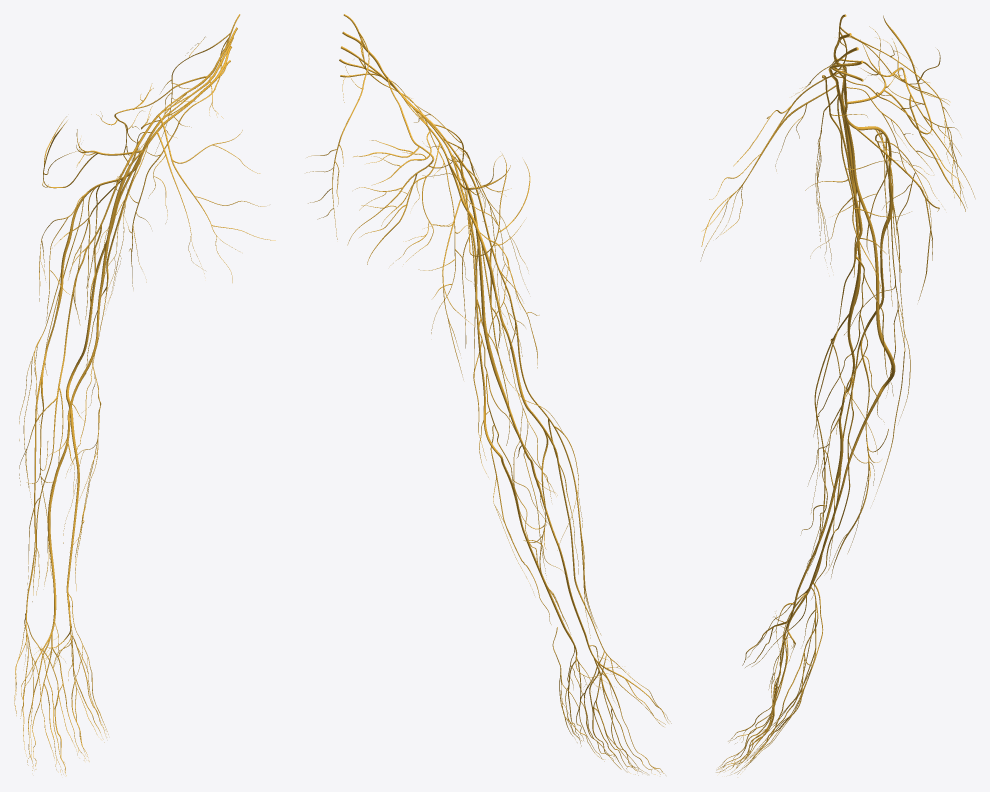
The model's file is aligned-upper-limb-nervous-01.glb.
The picture shows the model from 3 angles, left to right: view 1: azimuth 30°, elevation 25°; view 2: azimuth 150°, elevation 25°; view 3: azimuth 270°, elevation 25°; orthographic projection. The views are drawn at different scales.
Visible parts, largest first — view 1: O3D_b97c117a996a49, O3D_e2ebca41d4a0dc, O3D_99e1d7b0abd6da, O3D_437ff4c5e315e0, O3D_f5a411dd37ec77, O3D_14b555357a79c0, O3D_89074e70b0682d, O3D_255a8c9115e9ac, O3D_cf9a4c0952d096, O3D_6880cd886697c8, O3D_805b0ae0590620, O3D_36c34a134d0ae1 (+1 smaller); view 2: O3D_99e1d7b0abd6da, O3D_b97c117a996a49, O3D_437ff4c5e315e0, O3D_e2ebca41d4a0dc, O3D_458261f3b9063d, O3D_f5a411dd37ec77, O3D_14b555357a79c0, O3D_89074e70b0682d, O3D_6880cd886697c8, O3D_805b0ae0590620; view 3: O3D_99e1d7b0abd6da, O3D_e2ebca41d4a0dc, O3D_b97c117a996a49, O3D_437ff4c5e315e0, O3D_f5a411dd37ec77, O3D_458261f3b9063d, O3D_14b555357a79c0, O3D_805b0ae0590620, O3D_6880cd886697c8, O3D_db9c4d32abe504, O3D_255a8c9115e9ac, O3D_cf9a4c0952d096 (+3 smaller).
Boxes of the visible parts, <box> form: O3D_b97c117a996a49: <box>48,163,132,639</box>; O3D_e2ebca41d4a0dc: <box>66,150,143,634</box>; O3D_99e1d7b0abd6da: <box>63,148,145,590</box>; O3D_437ff4c5e315e0: <box>44,158,141,375</box>; O3D_f5a411dd37ec77: <box>14,612,76,758</box>; O3D_14b555357a79c0: <box>19,383,63,601</box>; O3D_89074e70b0682d: <box>59,144,139,382</box>; O3D_255a8c9115e9ac: <box>158,115,275,282</box>; O3D_cf9a4c0952d096: <box>27,682,85,775</box>; O3D_6880cd886697c8: <box>42,116,141,188</box>; O3D_805b0ae0590620: <box>123,38,228,289</box>; O3D_36c34a134d0ae1: <box>92,144,148,303</box>; O3D_99e1d7b0abd6da: <box>453,157,564,624</box>; O3D_b97c117a996a49: <box>462,177,600,664</box>; O3D_437ff4c5e315e0: <box>449,166,529,445</box>; O3D_e2ebca41d4a0dc: <box>453,160,577,660</box>; O3D_458261f3b9063d: <box>347,76,467,264</box>; O3D_f5a411dd37ec77: <box>579,650,671,774</box>; O3D_14b555357a79c0: <box>546,415,601,638</box>; O3D_89074e70b0682d: <box>457,155,546,415</box>; O3D_6880cd886697c8: <box>449,154,530,256</box>; O3D_805b0ae0590620: <box>359,36,474,333</box>; O3D_99e1d7b0abd6da: <box>800,97,893,599</box>; O3D_e2ebca41d4a0dc: <box>787,99,895,636</box>; O3D_b97c117a996a49: <box>787,118,861,621</box>; O3D_437ff4c5e315e0: <box>844,104,904,352</box>; O3D_f5a411dd37ec77: <box>744,582,823,766</box>; O3D_458261f3b9063d: <box>837,39,975,211</box>; O3D_14b555357a79c0: <box>808,327,877,570</box>; O3D_805b0ae0590620: <box>805,32,911,306</box>; O3D_6880cd886697c8: <box>837,15,940,134</box>; O3D_db9c4d32abe504: <box>844,216,910,501</box>; O3D_255a8c9115e9ac: <box>700,70,844,261</box>; O3D_cf9a4c0952d096: <box>716,663,780,771</box>.
Bounding box in the file's own units: 0.32 × 0.7882 × 0.2181.
